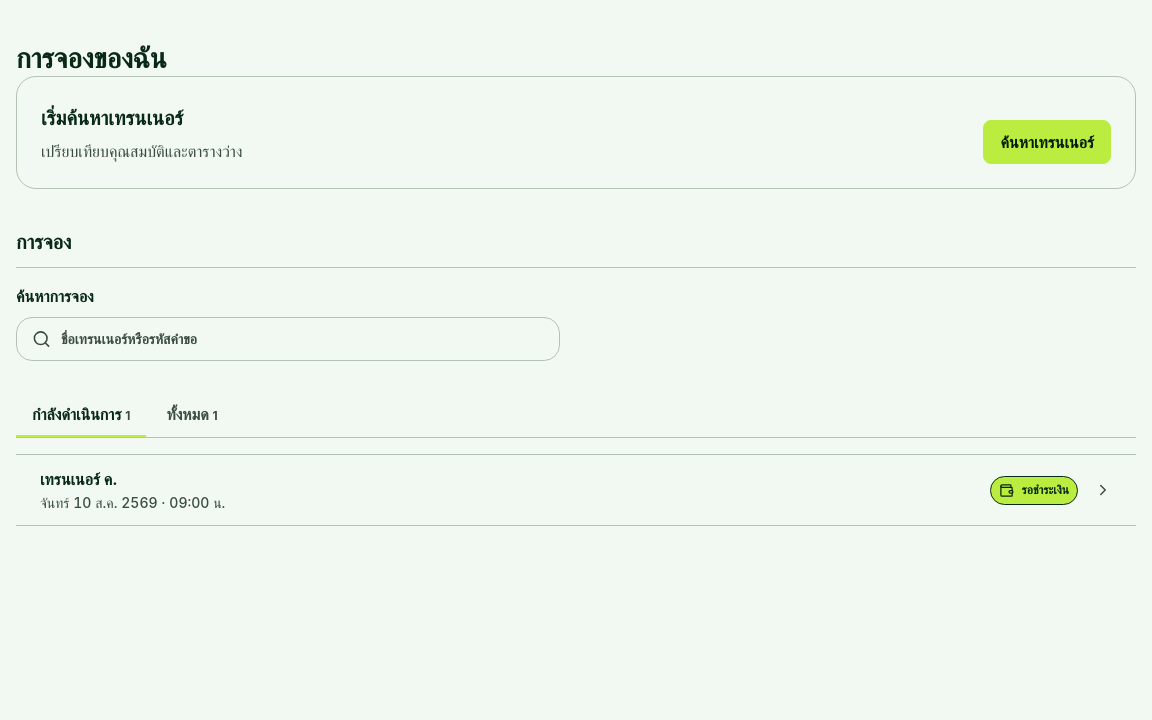
Scenario: member role dashboard › shows every appointment inside a monthly package
Click the button with test id "booking-summary": point(79, 479) [16,455,1136,526]
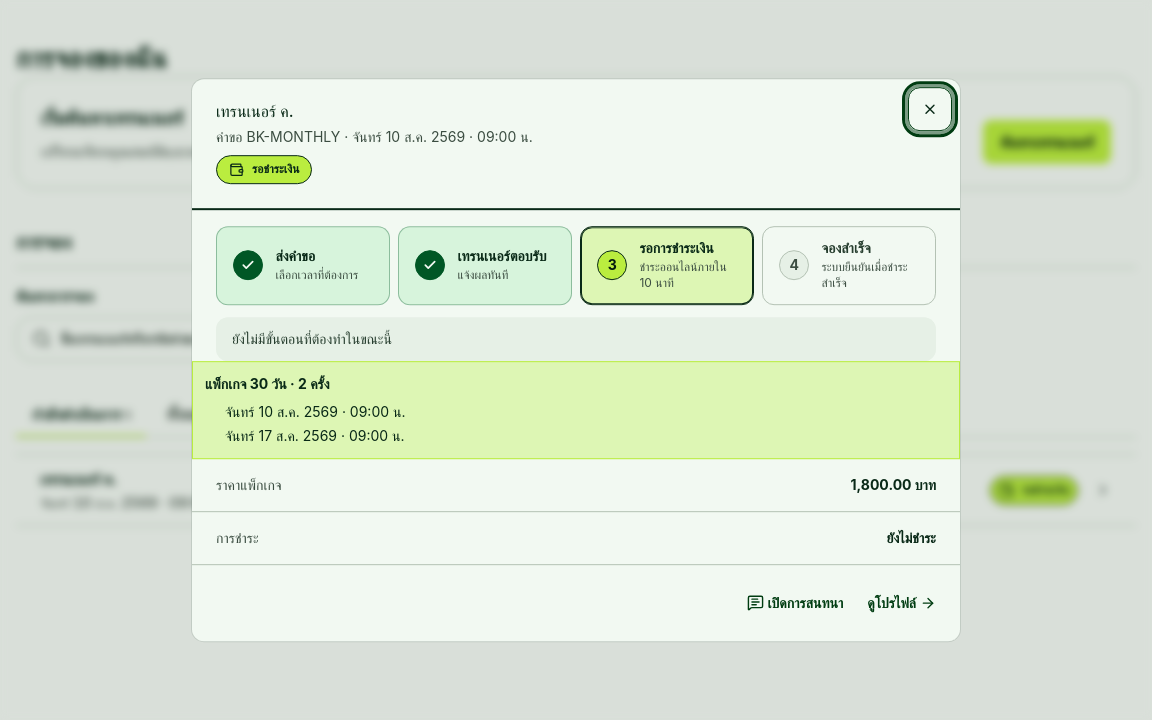
Check: the text "แพ็กเกจ 30 วัน · 2 ครั้ง" is shown, box [205,375,330,392]
Check: the list item "จันทร์ 10 ส.ค. 2569 · 09:00 น." is shown, box [225,403,406,420]
Check: the list item "จันทร์ 17 ส.ค. 2569 · 09:00 น." is shown, box [225,427,405,444]
